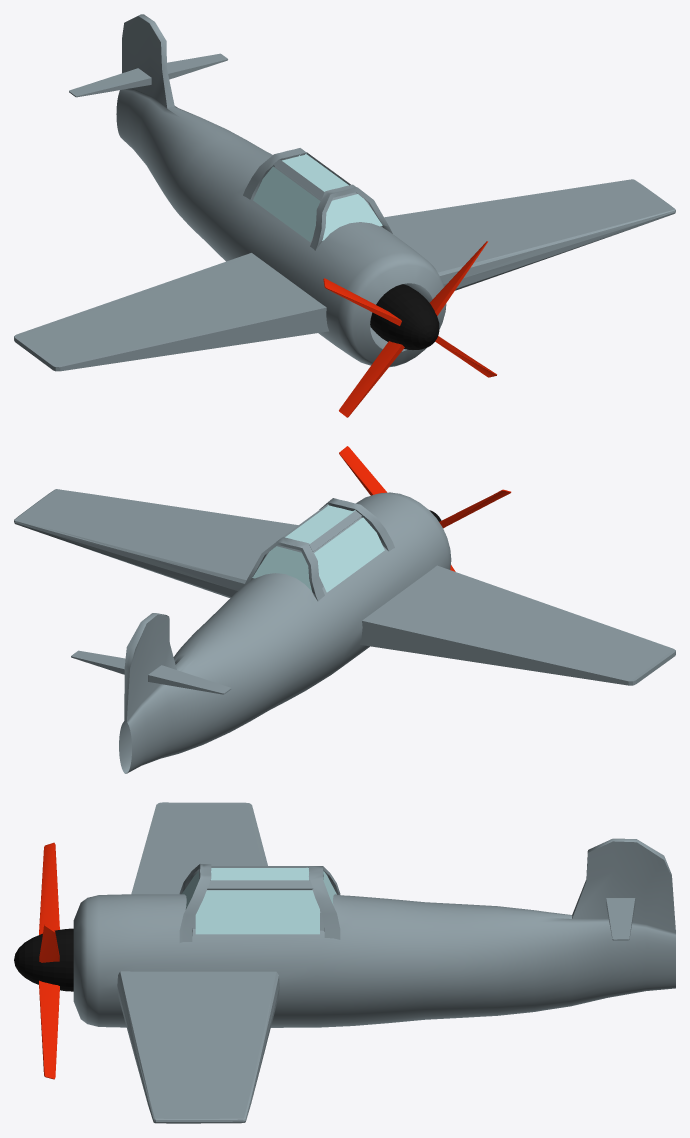
Rendered from cimpletoon.f32c67875649.fighter.glb.
3 views of the same model, one above another, from view 1: azimuth 30°, elevation 25°; view 2: azimuth 150°, elevation 25°; view 3: azimuth 270°, elevation 25° (orthographic). The views are drawn at different scales.
Parts seen in each view (by area): view 1: fighter.glb; view 2: fighter.glb; view 3: fighter.glb.
Part boxes in pixels (x1=…): fighter.glb: x1=14, y1=14, x2=675, y2=417; fighter.glb: x1=14, y1=446, x2=675, y2=773; fighter.glb: x1=14, y1=802, x2=675, y2=1123.
Bounding box in the file's own units: 3.19 × 0.9182 × 2.73.
Materials: 1 (1 with a texture image).
